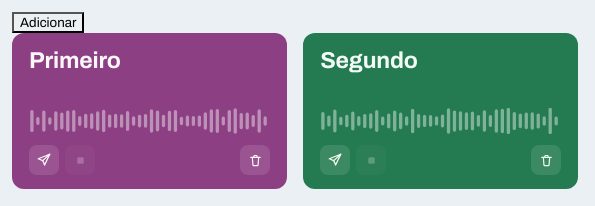
Test: FavoritesPanel › locks the other playback path while Discord is busy
Click the 1st button named "Reproduzir no Discord": {"x": 44, "y": 160} [29,145,59,175]
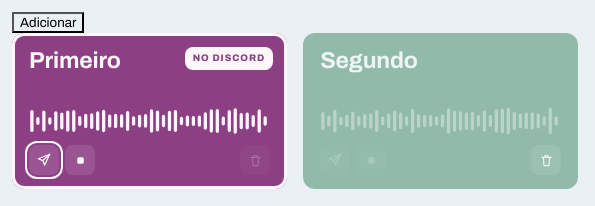
Result: the text "No Discord" is shown at [185,47,273,70]
Result: the button "Segundo" is disabled at [320,49,418,73]
Result: the button named "Parar" below "No Discord" is enabled at [65,145,95,175]
